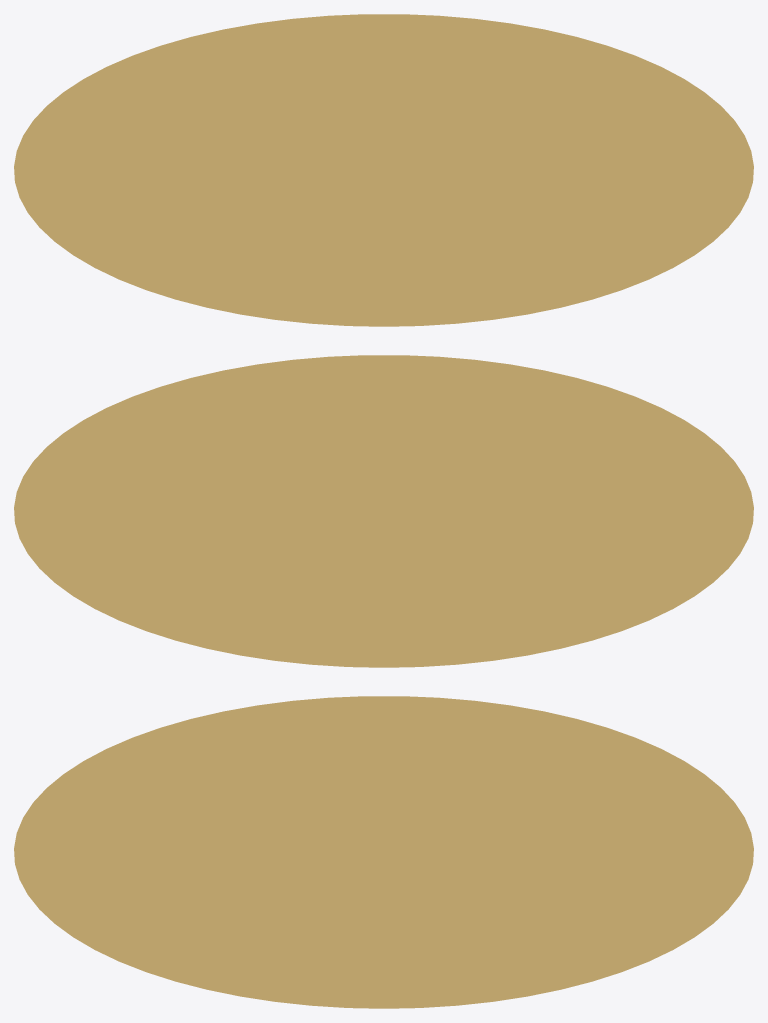
The model's file is step_01.glb.
3 renders of one model, top to bottom at view 1: azimuth 30°, elevation 25°; view 2: azimuth 150°, elevation 25°; view 3: azimuth 270°, elevation 25°, orthographic.
Visible parts, largest first — view 1: overlay; view 2: overlay; view 3: overlay.
Boxes of the visible parts, x1,y1,x2,y2 form: overlay: [14, 14, 753, 326]; overlay: [14, 355, 753, 667]; overlay: [14, 696, 753, 1008].
Bounding box in the file's own units: 69.96 × 0 × 69.98.
